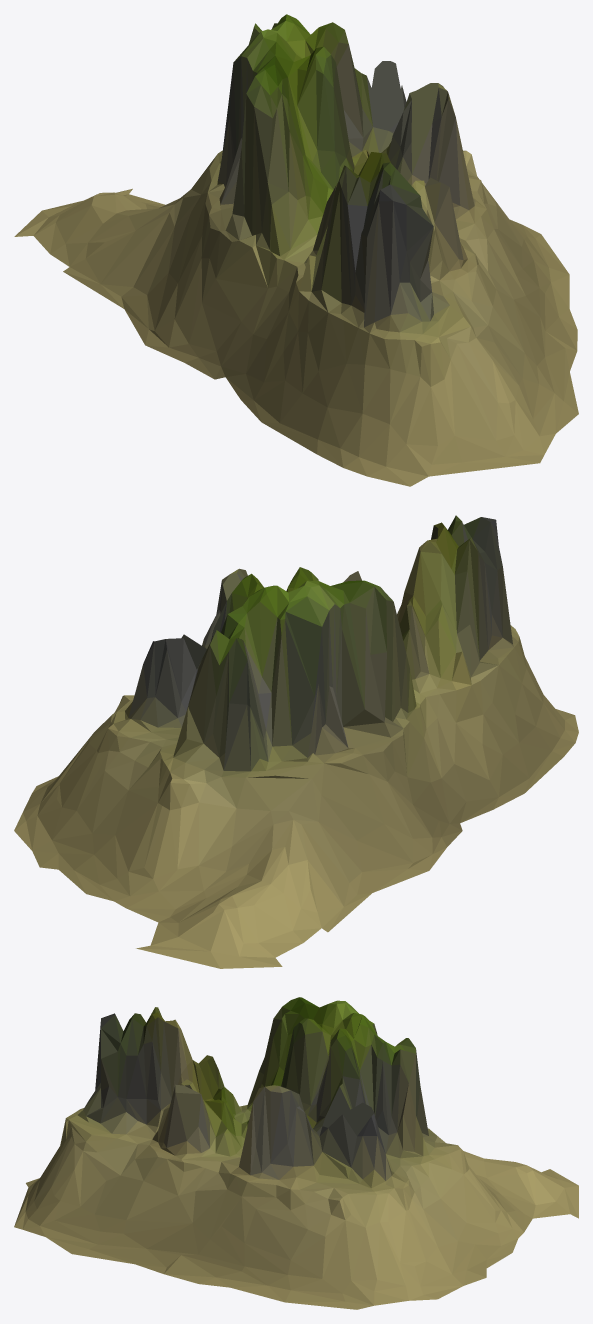
Rendered from Cliffs_C.fbx.
3 views of the same model, one above another, from view 1: azimuth 30°, elevation 25°; view 2: azimuth 150°, elevation 25°; view 3: azimuth 270°, elevation 25° (orthographic). The views are drawn at different scales.
Visible parts, largest first — view 1: Cliffs_C; view 2: Cliffs_C; view 3: Cliffs_C.
Part boxes in pixels (<box>): Cliffs_C: <box>14,14,578,486</box>; Cliffs_C: <box>14,515,578,968</box>; Cliffs_C: <box>14,997,578,1309</box>.
Bounding box in the file's own units: 6050 × 3968 × 9800.
